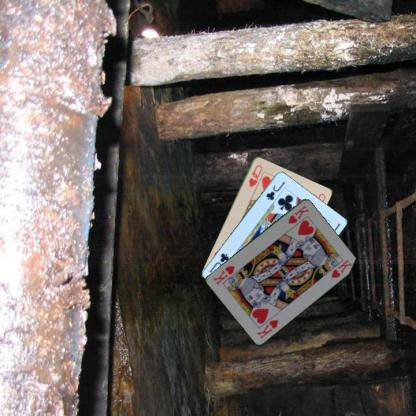Jc: (264, 179, 286, 201)
Kh: (254, 316, 280, 340), (286, 202, 310, 225)
Qh: (246, 162, 264, 188)
